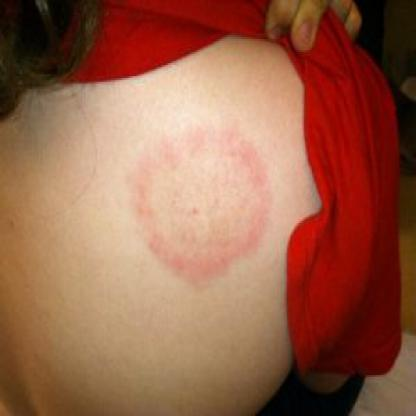Tick: (126, 113, 275, 286)
